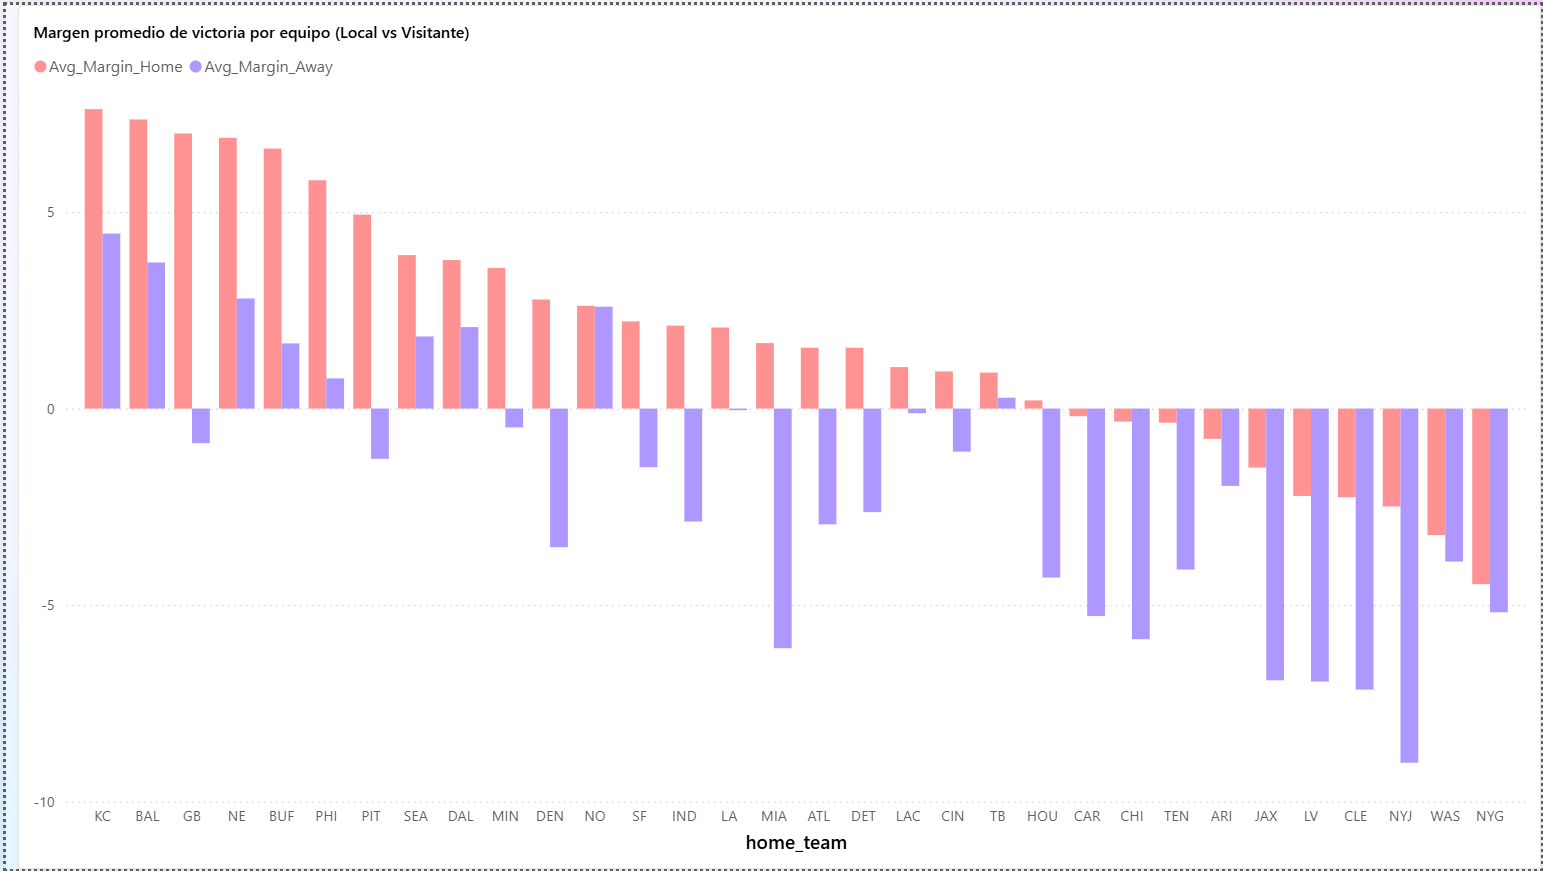

What the dashboard file says about the page in this screenshot:
{"tool":"powerbi","page":{"name":"Margen de victoria por equipo (H vs. A)","canvas":[1280,720],"ordinal":3},"visuals":[{"type":"clusteredColumnChart","title":"Margen promedio de victoria por equipo (Local vs Visitante)","fields":{"Category":["Base de Datos.home_team"],"Y":["Base de Datos.Avg_Margin_Home","Base de Datos.Avg_Margin_Away"]},"box":[9.7,0,1269.9,720.2],"z":0}]}

Visuals, with their boxes in screenshot pixels (x1, y1, x2, y2), scaled from the page's 1280x720 canvas onto the 1543x871 screenshot:
"Margen promedio de victoria por equipo (Local vs Visitante)" clusteredColumnChart: locate(12, 0, 1542, 870)
